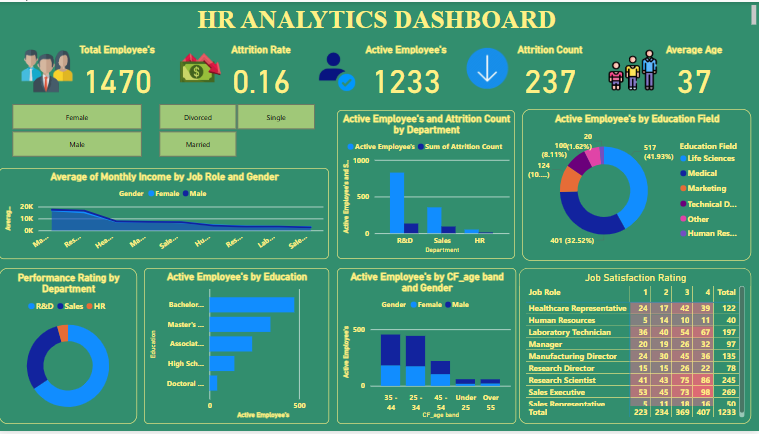

The dashboard page shown, as its layout file describes it:
{"tool":"powerbi","page":{"name":"Page 1","canvas":[1280,720],"ordinal":0},"visuals":[{"type":"card","title":"Total Employee''s","fields":{"Values":["Sum(HR data.Employee Count)"]},"box":[119.3,68.9,164.6,95.7],"z":0,"group":"g1"},{"type":"clusteredColumnChart","title":"Active Employee''s and  Attrition Count by Department","fields":{"Category":["HR data.Department"],"Y":["HR data.Active Employee's","Sum(HR data.Attrition Count)"]},"box":[571.1,181.4,299,250.3],"z":0},{"type":"card","title":"Attrition Count","fields":{"Values":["Sum(HR data.Attrition Count)"]},"box":[846.2,68.9,164.6,95.7],"z":1000,"group":"g1"},{"type":"donutChart","fields":{"Y":["HR data.Active Employee's"],"Category":["HR data.Education Field"]},"box":[881.9,179.7,384.7,255.3],"z":1000},{"type":"card","title":"Average Age","fields":{"Values":["Avg(HR data.Age)"]},"box":[1088.5,68.9,164.6,95.7],"z":2000,"group":"g1"},{"type":"columnChart","fields":{"Y":["HR data.Active Employee's"],"Category":["HR data.CF_age band"],"Series":["HR data.Gender"]},"box":[571.1,446.8,300.7,262],"z":2000},{"type":"card","title":"Active Employee''s","fields":{"Values":["HR data.Active Employee's"]},"box":[603.9,68.9,164.6,95.7],"z":3000,"group":"g1"},{"type":"pivotTable","title":"Job Satisfaction Rating ","fields":{"Rows":["HR data.Job Role"],"Columns":["HR data.Job Satisfaction"],"Values":["HR data.Active Employee's"]},"box":[876.9,446.8,389.7,262],"z":3000},{"type":"card","title":"Attrition Rate","fields":{"Values":["HR data.Attrition Rate"]},"box":[361.6,68.9,164.6,95.7],"z":4000,"group":"g1"},{"type":"donutChart","title":" Performance Rating by Department","fields":{"Y":["Sum(HR data.Performance Rating)"],"Category":["HR data.Department"]},"box":[3.4,446.8,231.8,262],"z":4000},{"type":"clusteredBarChart","fields":{"Category":["HR data.Education"],"Y":["HR data.Active Employee's"]},"box":[246.9,446.8,310.8,262],"z":5000},{"type":"areaChart","fields":{"Category":["HR data.Job Role"],"Y":["Avg(HR data.Monthly Income)"],"Series":["HR data.Gender"]},"box":[3.4,278.8,554.3,152.9],"z":6000},{"type":"slicer","fields":{"Values":["HR data.Gender"]},"box":[0,164.6,267.1,102.5],"z":7000},{"type":"slicer","fields":{"Values":["HR data.Marital Status"]},"box":[246.9,164.6,310.8,102.5],"z":8000},{"type":"group","id":"g1","title":"Group 1","box":[119.3,68.9,1133.9,95.7],"z":9000},{"type":"image","box":[1011.2,63.8,112.5,100.8],"z":10000},{"type":"image","box":[772.7,68.9,99.1,82.3],"z":11000},{"type":"image","box":[520.7,63.8,99.1,100.8],"z":12000},{"type":"image","box":[283.9,50.4,109.2,100.8],"z":13000},{"type":"image","box":[35.3,63.8,99.1,100.8],"z":14000},{"type":"textbox","box":[3.4,0,1276.6,50.4],"z":15000}]}

Visuals, with their boxes in screenshot pixels (x1, y1, x2, y2), scaled from the page's 1280x720 canvas onto the 759x434 screenshot:
"Total Employee''s" card: {"x1": 71, "y1": 42, "x2": 168, "y2": 99}
"Active Employee''s and  Attrition Count by Department" clusteredColumnChart: {"x1": 339, "y1": 109, "x2": 516, "y2": 260}
"Attrition Count" card: {"x1": 502, "y1": 42, "x2": 599, "y2": 99}
donutChart - HR data.Active Employee's x HR data.Education Field: {"x1": 523, "y1": 108, "x2": 751, "y2": 262}
"Average Age" card: {"x1": 645, "y1": 42, "x2": 743, "y2": 99}
columnChart - HR data.Active Employee's x HR data.CF_age band: {"x1": 339, "y1": 269, "x2": 517, "y2": 427}
"Active Employee''s" card: {"x1": 358, "y1": 42, "x2": 456, "y2": 99}
"Job Satisfaction Rating " pivotTable: {"x1": 520, "y1": 269, "x2": 751, "y2": 427}
"Attrition Rate" card: {"x1": 214, "y1": 42, "x2": 312, "y2": 99}
" Performance Rating by Department" donutChart: {"x1": 2, "y1": 269, "x2": 139, "y2": 427}
clusteredBarChart - HR data.Education x HR data.Active Employee's: {"x1": 146, "y1": 269, "x2": 331, "y2": 427}
areaChart - HR data.Job Role x Avg(HR data.Monthly Income): {"x1": 2, "y1": 168, "x2": 331, "y2": 260}
slicer - HR data.Gender: {"x1": 0, "y1": 99, "x2": 158, "y2": 161}
slicer - HR data.Marital Status: {"x1": 146, "y1": 99, "x2": 331, "y2": 161}
"Group 1" group: {"x1": 71, "y1": 42, "x2": 743, "y2": 99}
image: {"x1": 600, "y1": 38, "x2": 666, "y2": 99}
image: {"x1": 458, "y1": 42, "x2": 517, "y2": 91}
image: {"x1": 309, "y1": 38, "x2": 368, "y2": 99}
image: {"x1": 168, "y1": 30, "x2": 233, "y2": 91}
image: {"x1": 21, "y1": 38, "x2": 80, "y2": 99}
textbox: {"x1": 2, "y1": 0, "x2": 758, "y2": 30}
